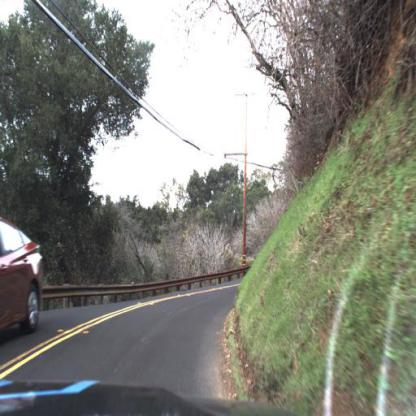car: (1, 215, 44, 336)
